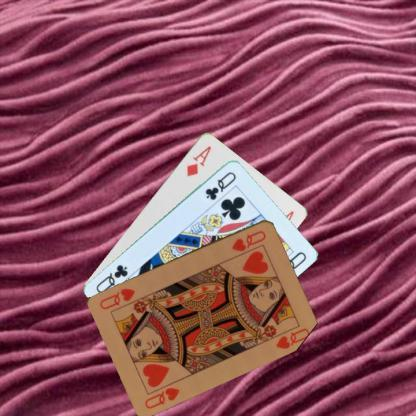Ad: (184, 142, 212, 178)
Qc: (202, 168, 238, 202)
Qh: (142, 384, 181, 410), (228, 228, 268, 252)
